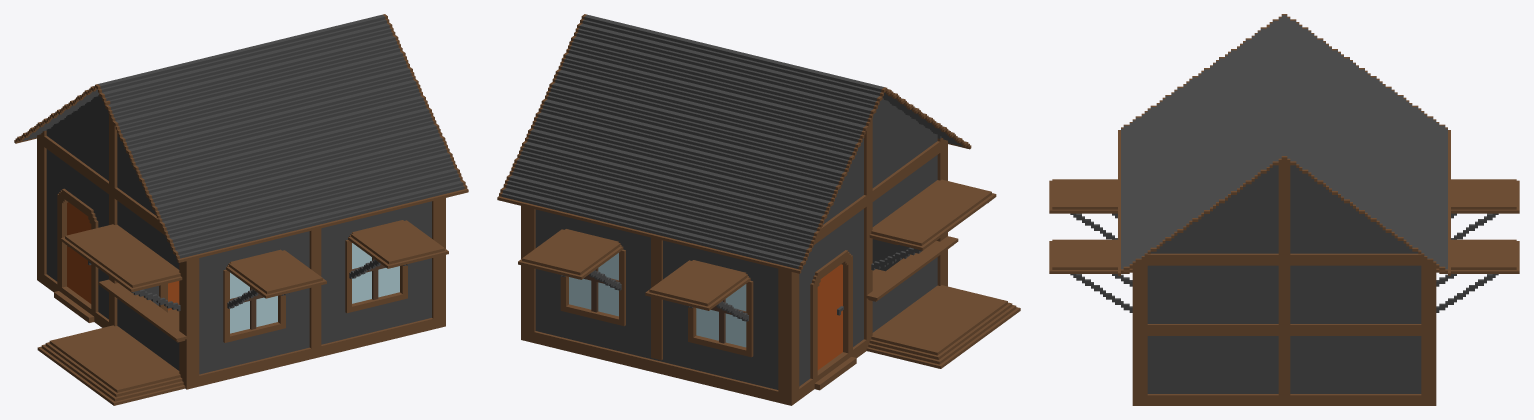
The model's file is Casa 09.obj.
The picture shows the model from 3 angles, left to right: view 1: azimuth 30°, elevation 25°; view 2: azimuth 150°, elevation 25°; view 3: azimuth 270°, elevation 25°; orthographic projection. The views are drawn at different scales.
Size of the model in its own units: 13.6 by 9.5 by 15.8.
1 material, 1 textured.
